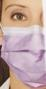with_mask: (1, 2, 46, 89)
